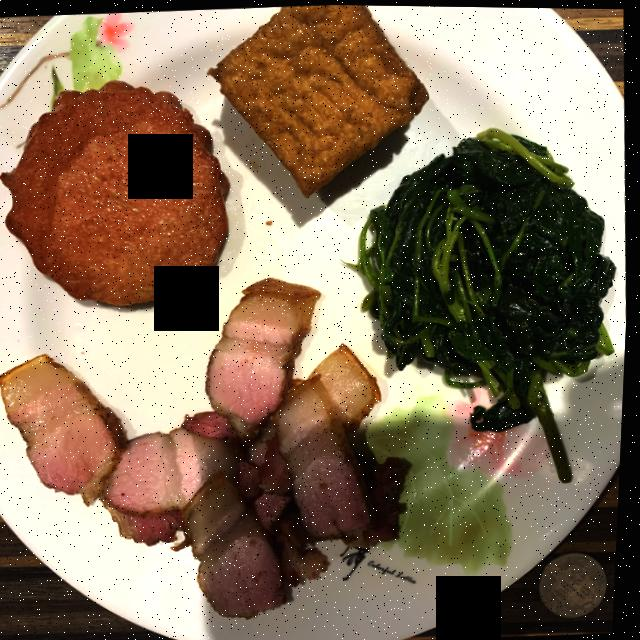Spam: (1, 81, 230, 305)
coin: (545, 550, 612, 615)
egg tofu: (209, 4, 429, 195)
grilled pork: (1, 277, 409, 616)
sweet potato leaves: (357, 128, 617, 480)
